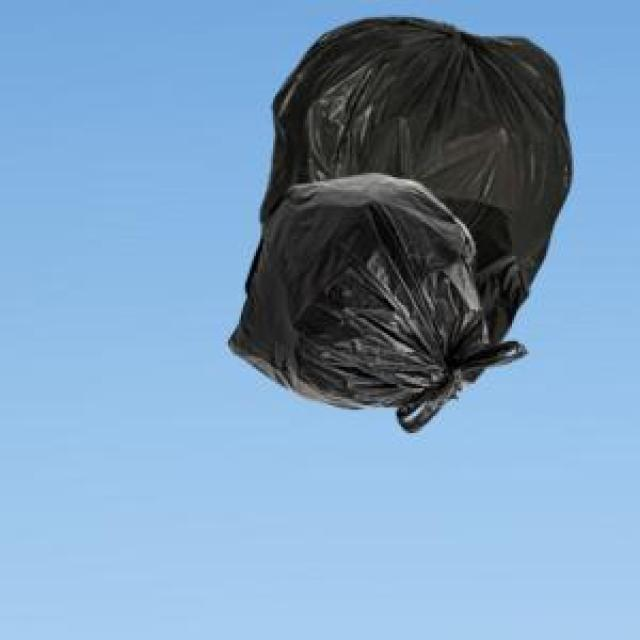waste: (230, 18, 572, 432)
